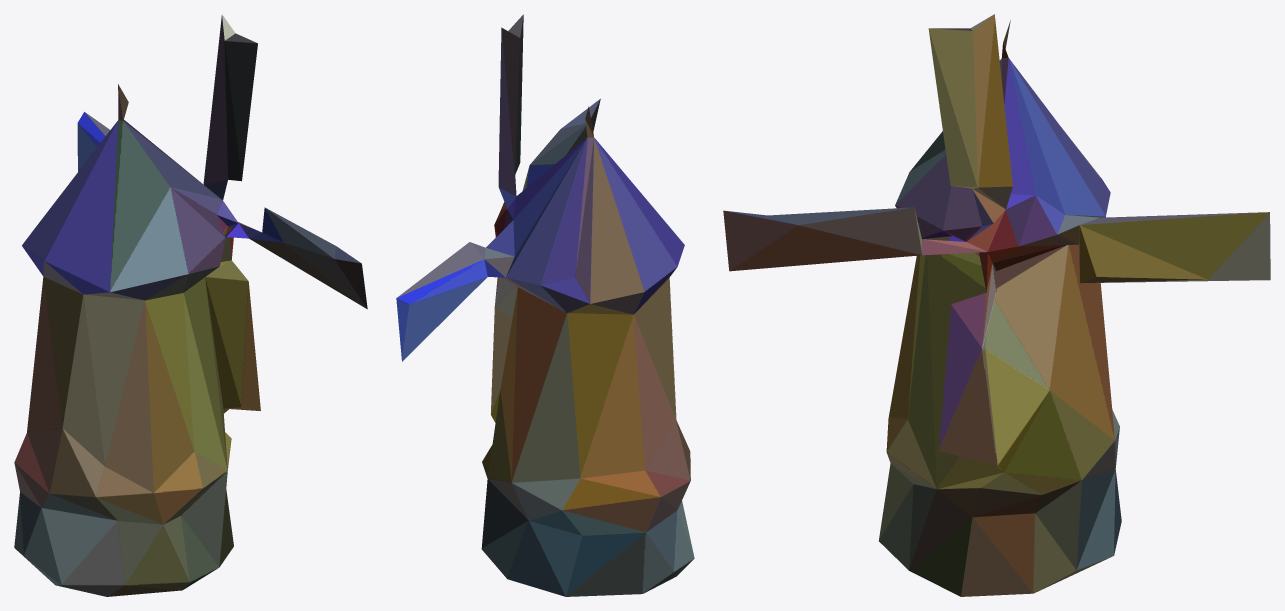
Rendered from windmill.fbx.
The picture shows the model from 3 angles, left to right: view 1: azimuth 30°, elevation 25°; view 2: azimuth 150°, elevation 25°; view 3: azimuth 270°, elevation 25°; orthographic projection. The views are drawn at different scales.
Parts seen in each view (by area): view 1: Mesh_0; view 2: Mesh_0; view 3: Mesh_0.
Boxes of the visible parts, box(x1,y1,x2,y2) form: Mesh_0: box(14, 14, 367, 596); Mesh_0: box(396, 14, 694, 596); Mesh_0: box(723, 14, 1270, 596).
Size of the model in its own units: 50.31 by 118 by 98.8.
Materials: 1 (1 with a texture image).
